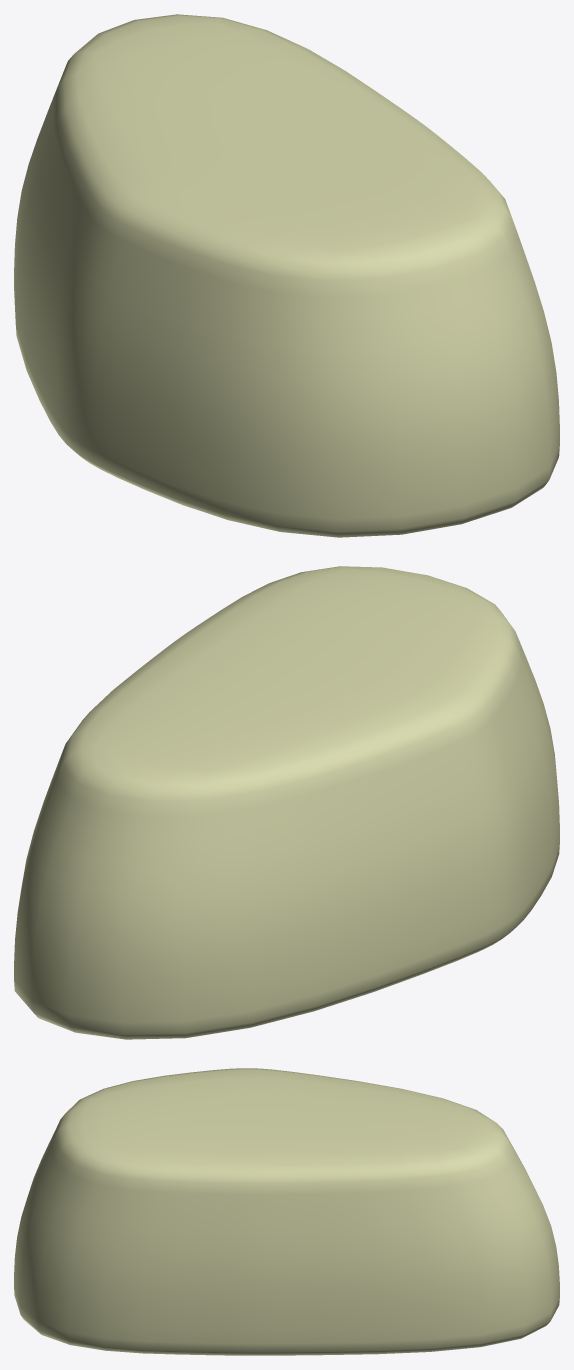
Rendered from StoneRound.glb.
3 renders of one model, top to bottom at view 1: azimuth 30°, elevation 25°; view 2: azimuth 150°, elevation 25°; view 3: azimuth 270°, elevation 25°, orthographic. The views are drawn at different scales.
Visible parts, largest first — view 1: StoneRound; view 2: StoneRound; view 3: StoneRound.
Part boxes in pixels (x1,y1,x2,y2): StoneRound: (14, 14, 559, 537); StoneRound: (14, 566, 559, 1039); StoneRound: (14, 1068, 559, 1355).
Bounding box in the file's own units: 2.33 × 1.5 × 4.02.
